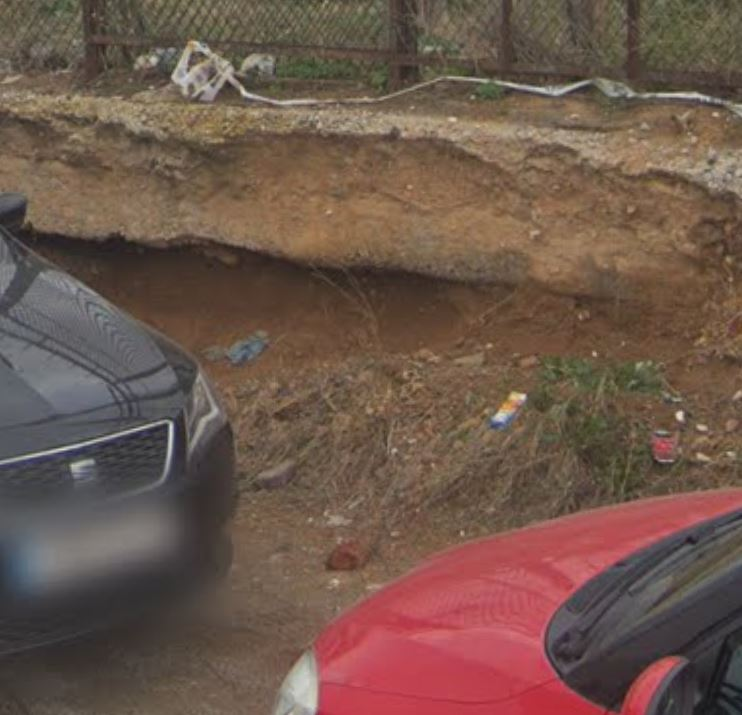trash: (152, 26, 251, 117), (202, 317, 273, 369), (487, 390, 529, 436), (649, 422, 683, 468)
